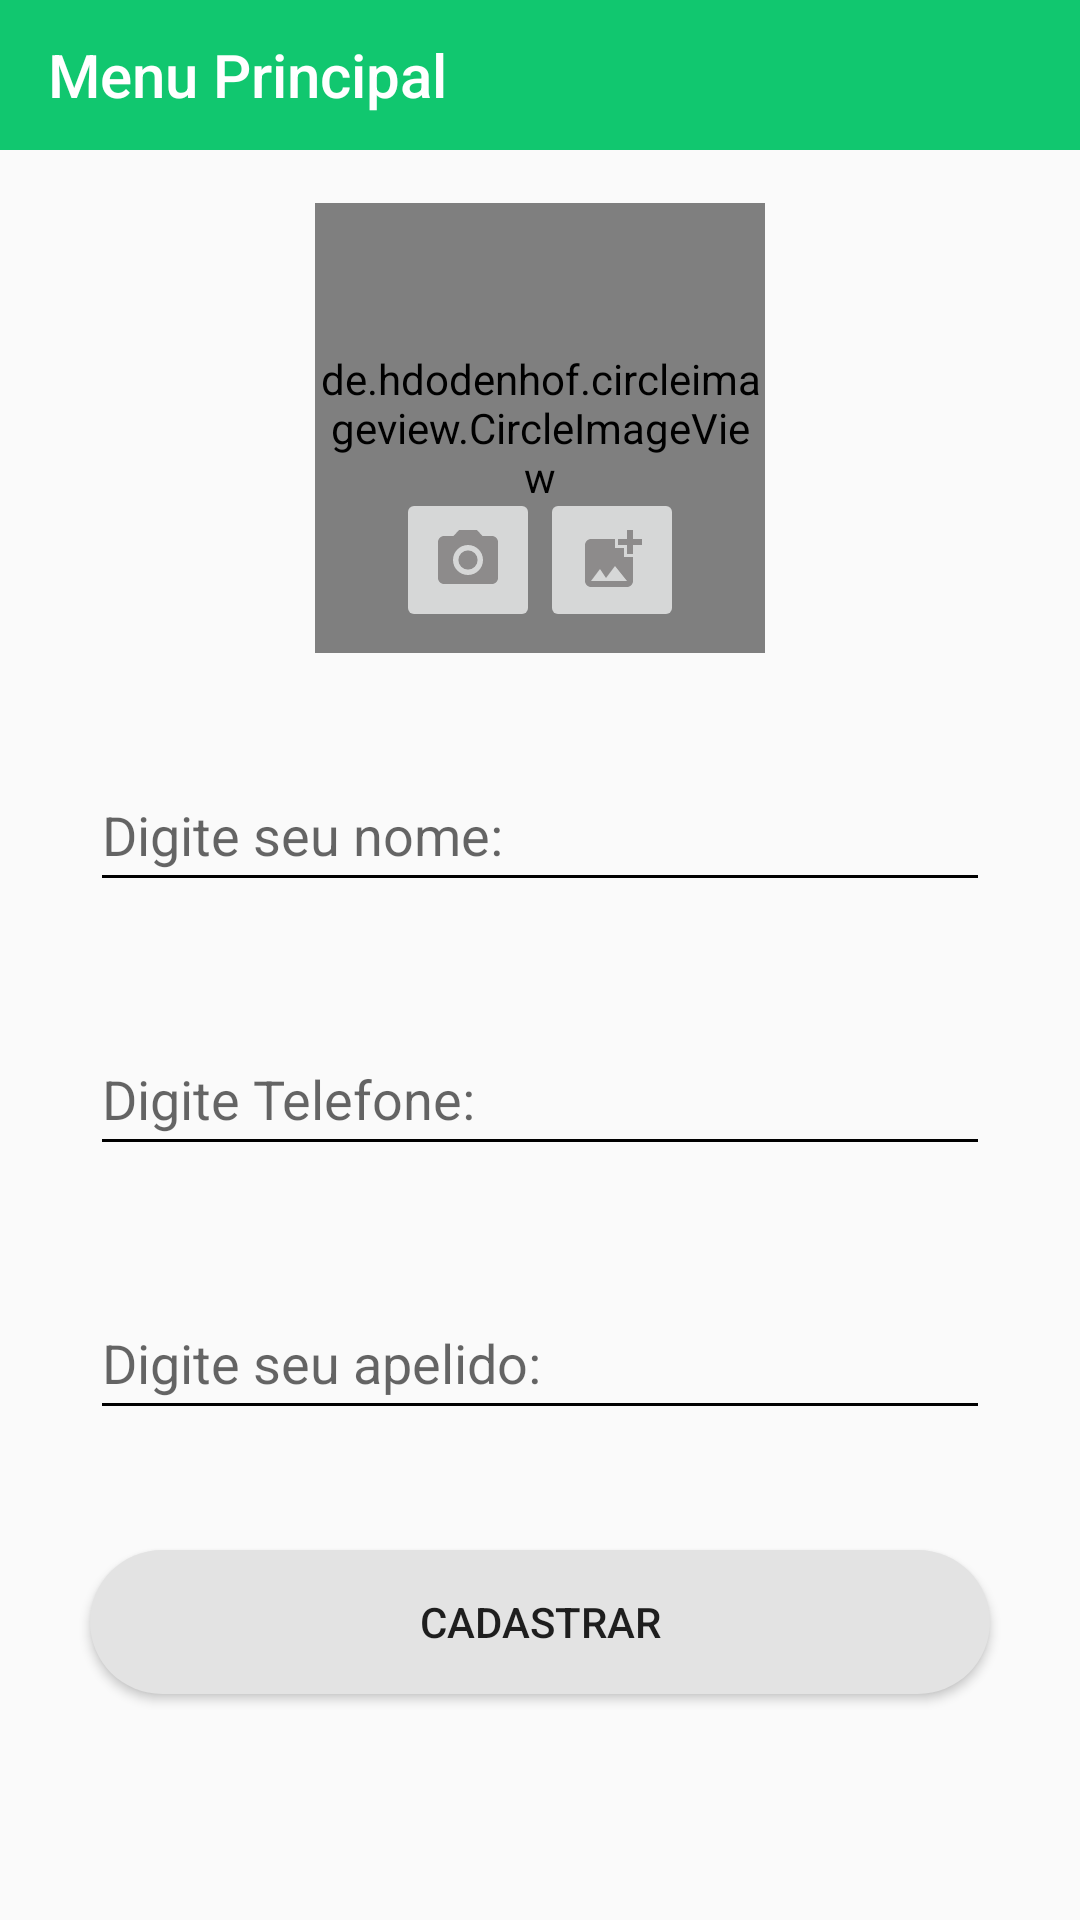

Icon bounding boxes for this 1080 x 1920 phone screenshot, format detection(x1, y1, x2, y2):
add photo alternate: detection(552, 506, 672, 614)
camera: detection(408, 506, 528, 614)
